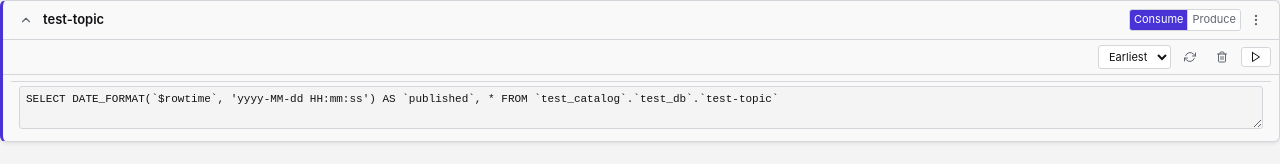
[@stream-card-layout] StreamCard Layout › Mode selector › switching mode hides/shows appropriate controls
Expected: the dropdown named "Scan mode" is shown, [1098,45,1171,69]
Note: Switch to produce mode
Click the button "Produce" at (1214, 20), box [1188,10,1240,30]
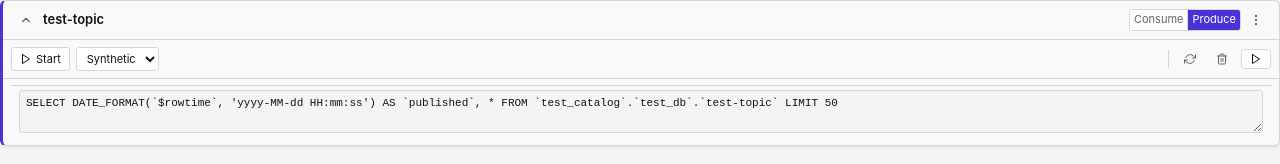
Result: the button with aria-label "Start producer" is shown at [11,47,70,71]
Result: the dropdown named "Data source" is shown at [76,47,159,71]
Note: Switch back to consume
Click the button "Consume" at (1159, 20), box [1130,10,1188,30]
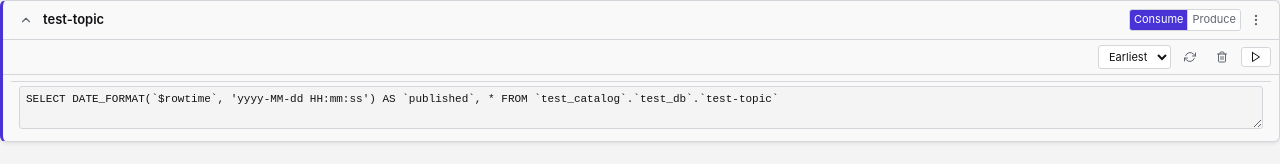
Result: the dropdown named "Scan mode" is shown at [1098,45,1171,69]
